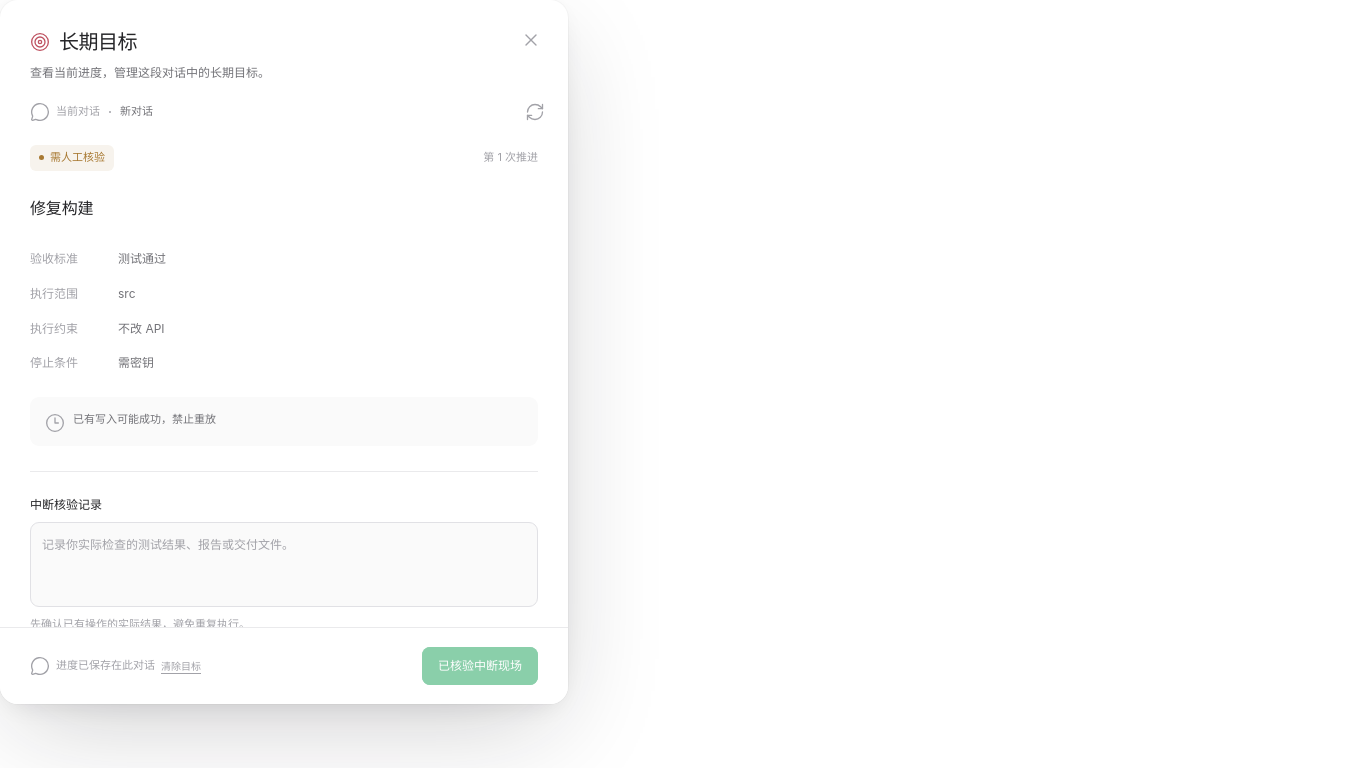
Scenario: durable goal workbench › blocks uncertain continuation until a human records the reconciliation evidence
The image size is (1366, 768).
Expected: the element with test id "goal-state" reads "需人工核验", [50, 150, 105, 164]
Expected: the text "继续执行" is not shown
Type "检查了外部状态" into the text box labelled "中断核验记录 记录你实际检查的测试结果、报告或交付文件。" at {"x": 284, "y": 574}, box [42, 522, 526, 626]
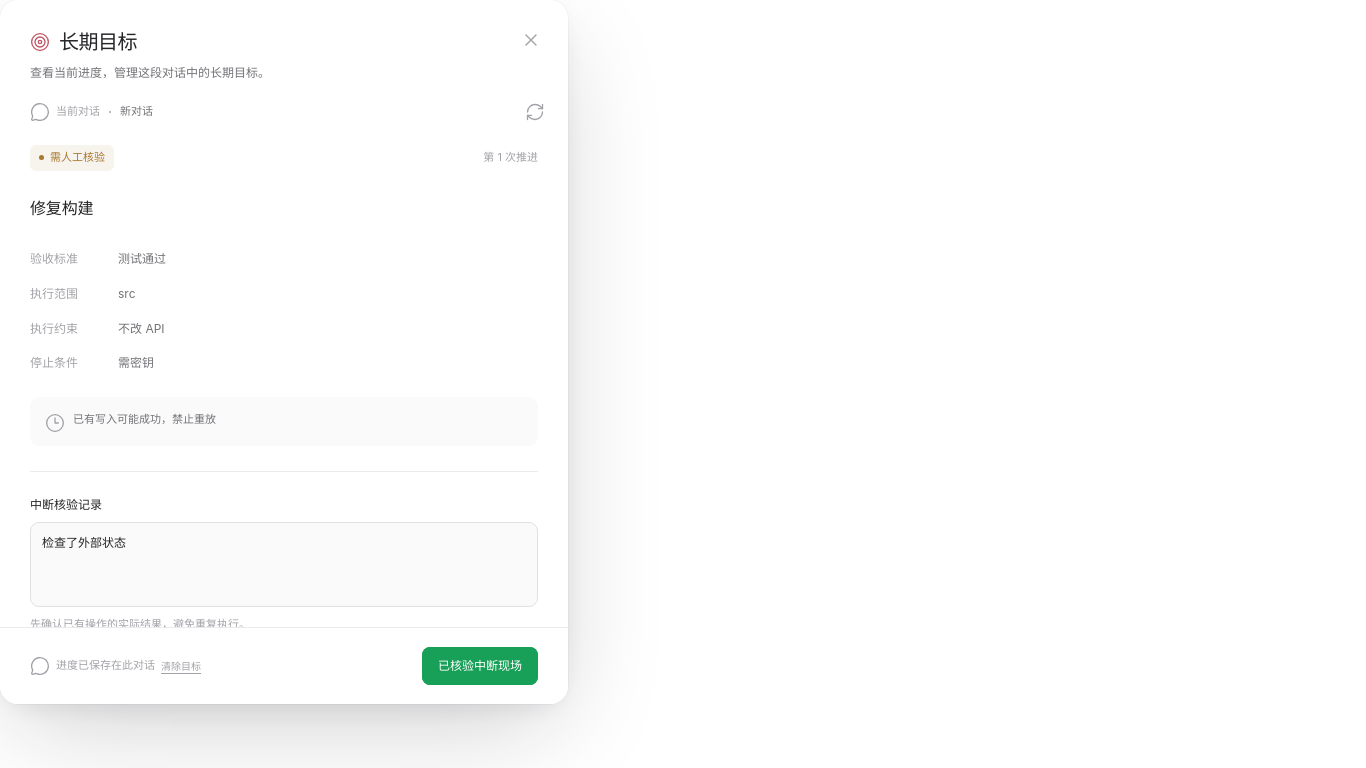
Click the button "已核验中断现场" at {"x": 480, "y": 666}, box [422, 647, 538, 685]
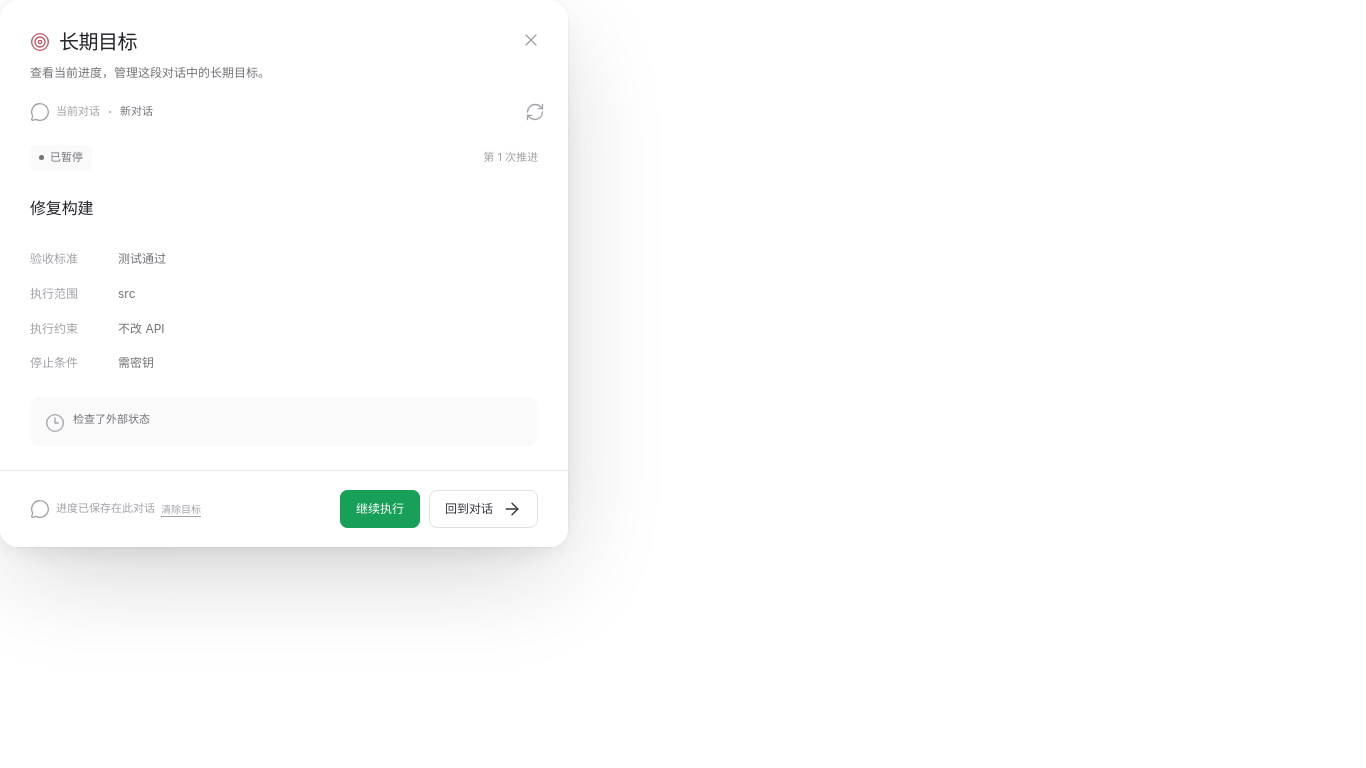
Now the element with test id "goal-state" reads "已暂停", box [50, 150, 83, 164]
Now the text "继续执行" is shown, box [356, 503, 404, 515]
